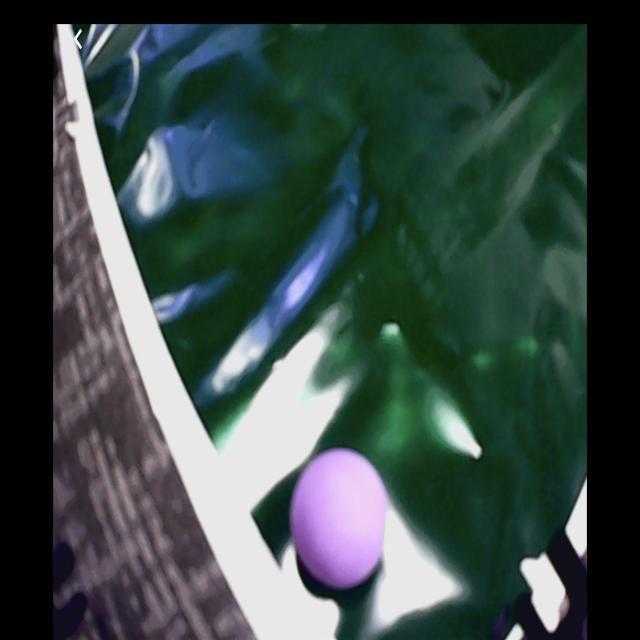ball: (293, 449, 387, 589)
